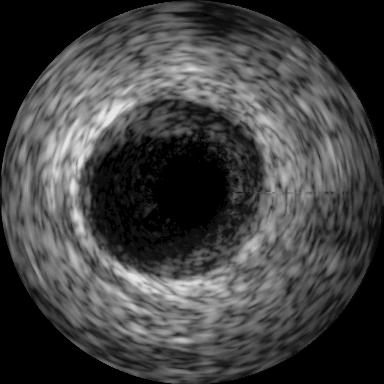Lumen: (155, 147, 232, 222)
